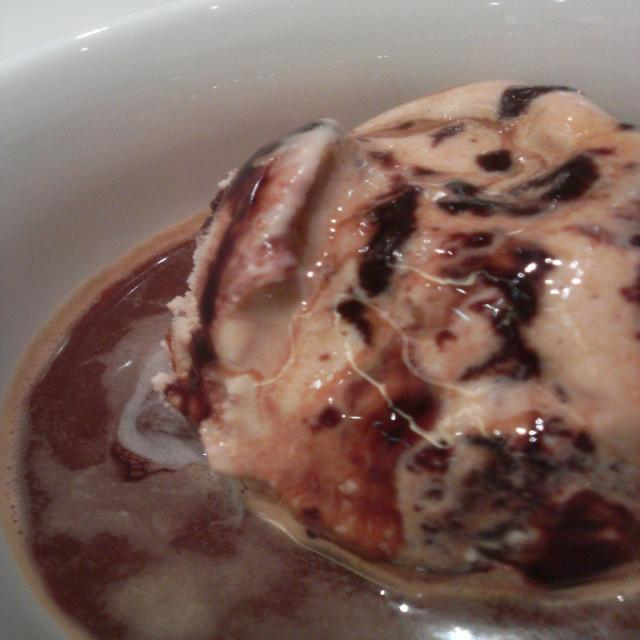Ice cream: (141, 77, 639, 639)
